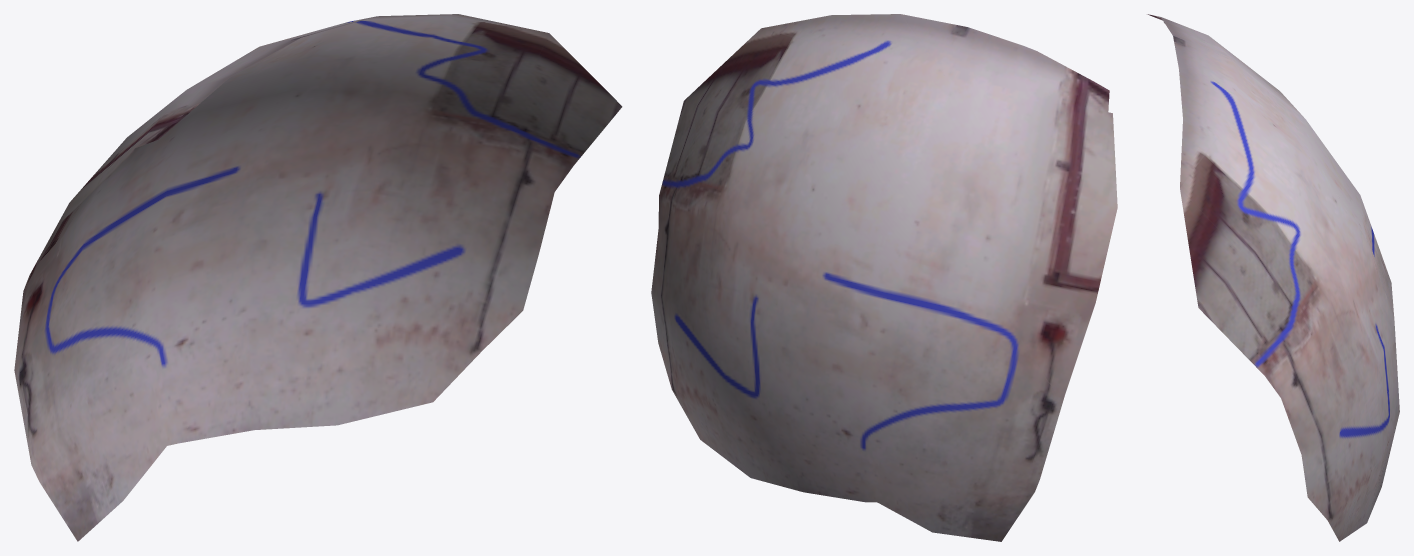
Rendered from parca2.fbx.
3 views of the same model, side by side, from view 1: azimuth 30°, elevation 25°; view 2: azimuth 150°, elevation 25°; view 3: azimuth 270°, elevation 25° (orthographic). The views are drawn at different scales.
Visible parts, largest first — view 1: node_id4; view 2: node_id4; view 3: node_id4.
Boxes of the visible parts, left/top/right/bottom form: node_id4: left=14, top=14, right=622, bottom=541; node_id4: left=651, top=14, right=1117, bottom=541; node_id4: left=1147, top=14, right=1399, bottom=541.
Bounding box in the file's own units: 0.5275 × 0.4895 × 0.2509.
Materials: 1 (1 with a texture image).
